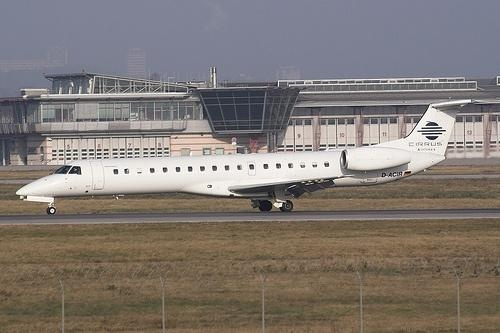aeroplane: (17, 99, 475, 216)
